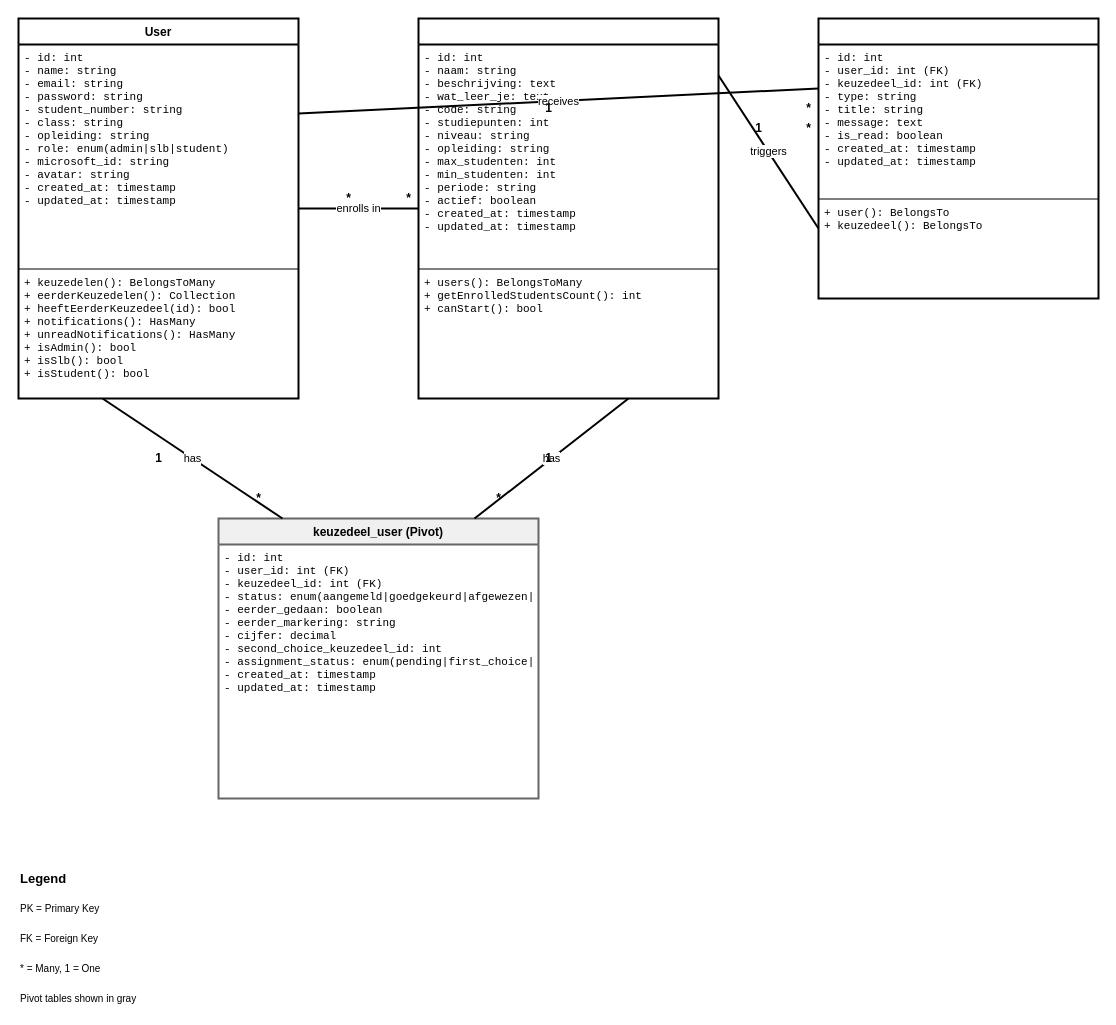
Image size: 1116x1025. Some labels were removed from this diagram. The shapes that lost their labels are listed below. From the top down, each one's box as (x1, y1, x2, y2) in pixels, then its label:
(817, 17, 1099, 299): Notification
(417, 17, 719, 399): Keuzedeel
